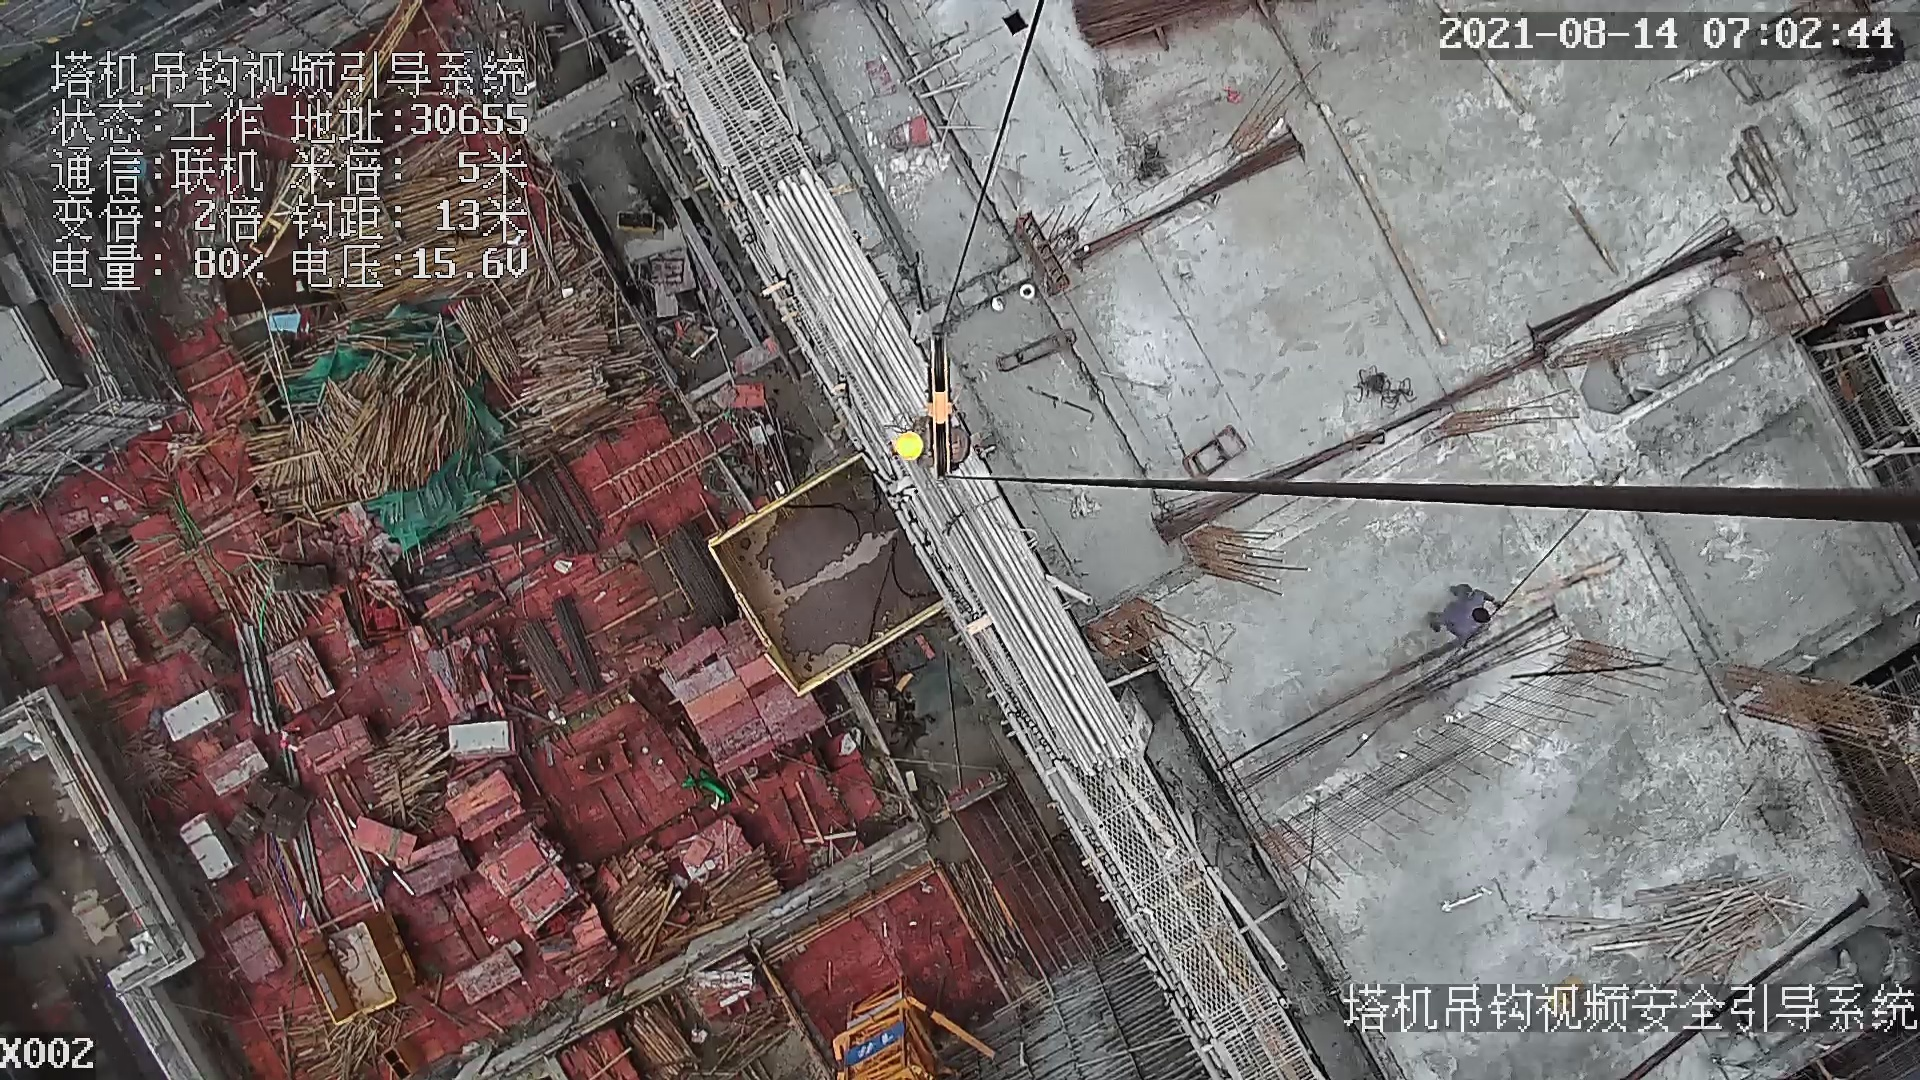helmet: (892, 430, 926, 461)
hook: (920, 332, 969, 487)
person: (1426, 582, 1506, 644), (896, 433, 974, 465)
slogan: (838, 1019, 908, 1068)
